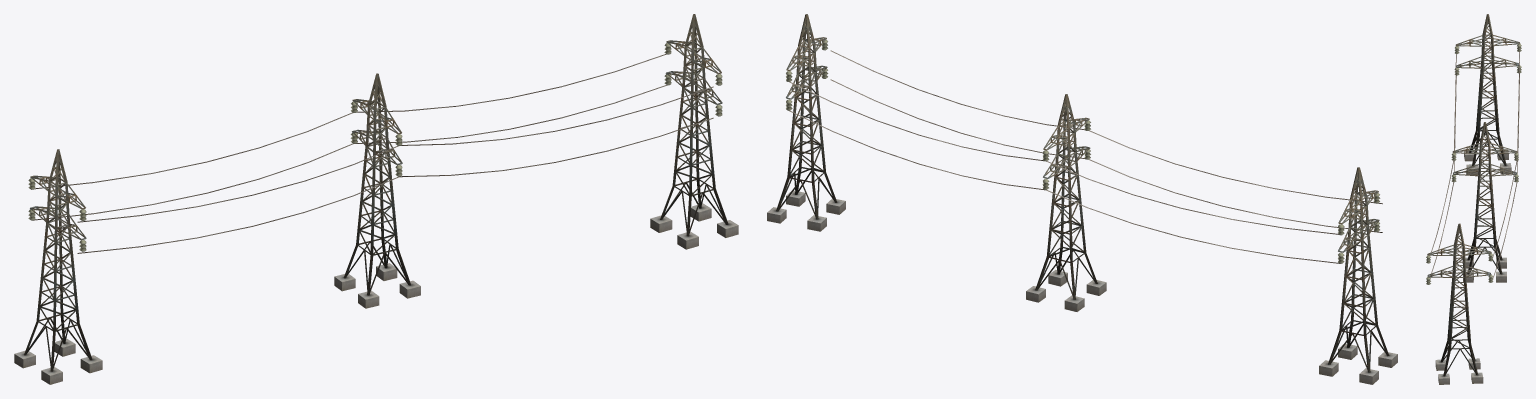
Rendered from 50M_towers.dae.
The picture shows the model from 3 angles, left to right: view 1: azimuth 30°, elevation 25°; view 2: azimuth 150°, elevation 25°; view 3: azimuth 270°, elevation 25°; orthographic projection. The views are drawn at different scales.
Visible parts, largest first — view 1: Electrical_tower; view 2: Electrical_tower; view 3: Electrical_tower.
Boxes of the visible parts, box(x1,y1,x2,y2) form: Electrical_tower: box(14, 14, 738, 384); Electrical_tower: box(767, 14, 1397, 384); Electrical_tower: box(1426, 14, 1521, 384).
Size of the model in its own units: 164 by 28.89 by 50.18.
Materials: 1 (1 with a texture image).
